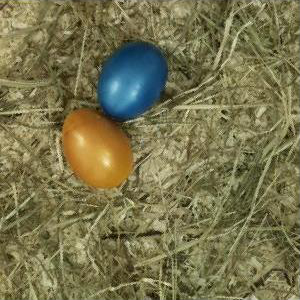egg: (61, 109, 134, 189), (98, 43, 168, 121)
